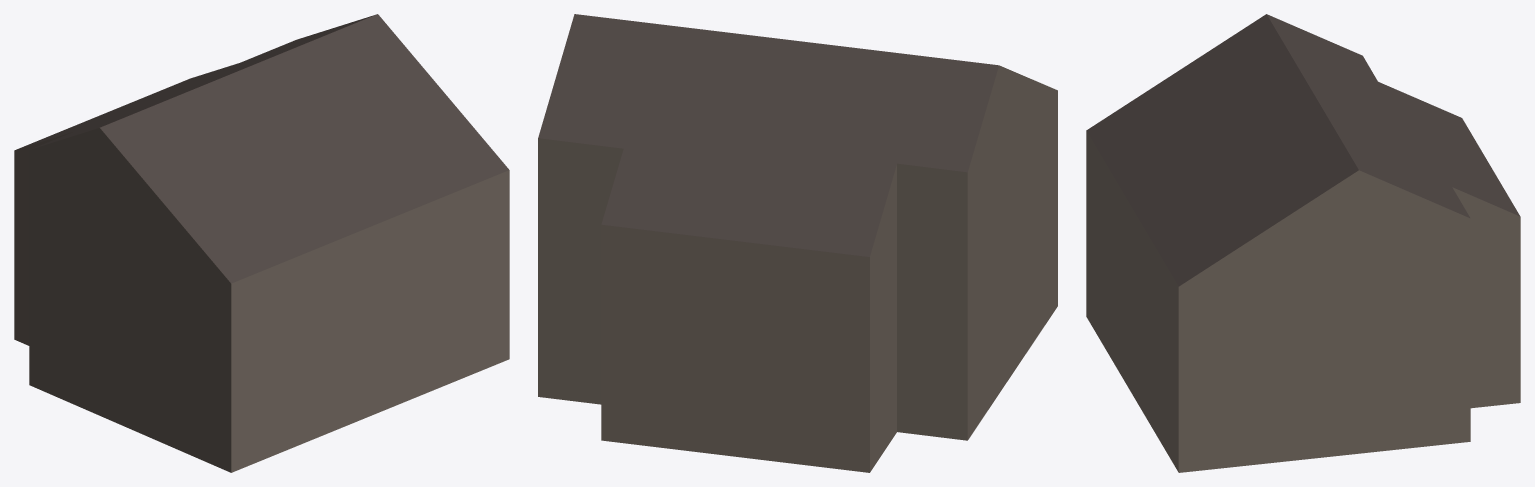
3 views of the same model, side by side, from view 1: azimuth 30°, elevation 25°; view 2: azimuth 150°, elevation 25°; view 3: azimuth 270°, elevation 25° (orthographic). The views are drawn at different scales.
Visible parts, largest first — view 1: HP-w1367351000; view 2: HP-w1367351000; view 3: HP-w1367351000.
Boxes of the visible parts, x1,y1,x2,y2 form: HP-w1367351000: (14,14,509,472); HP-w1367351000: (538,14,1057,472); HP-w1367351000: (1086,14,1520,472).
Size of the model in its own units: 19.25 by 13.7 by 19.01.
